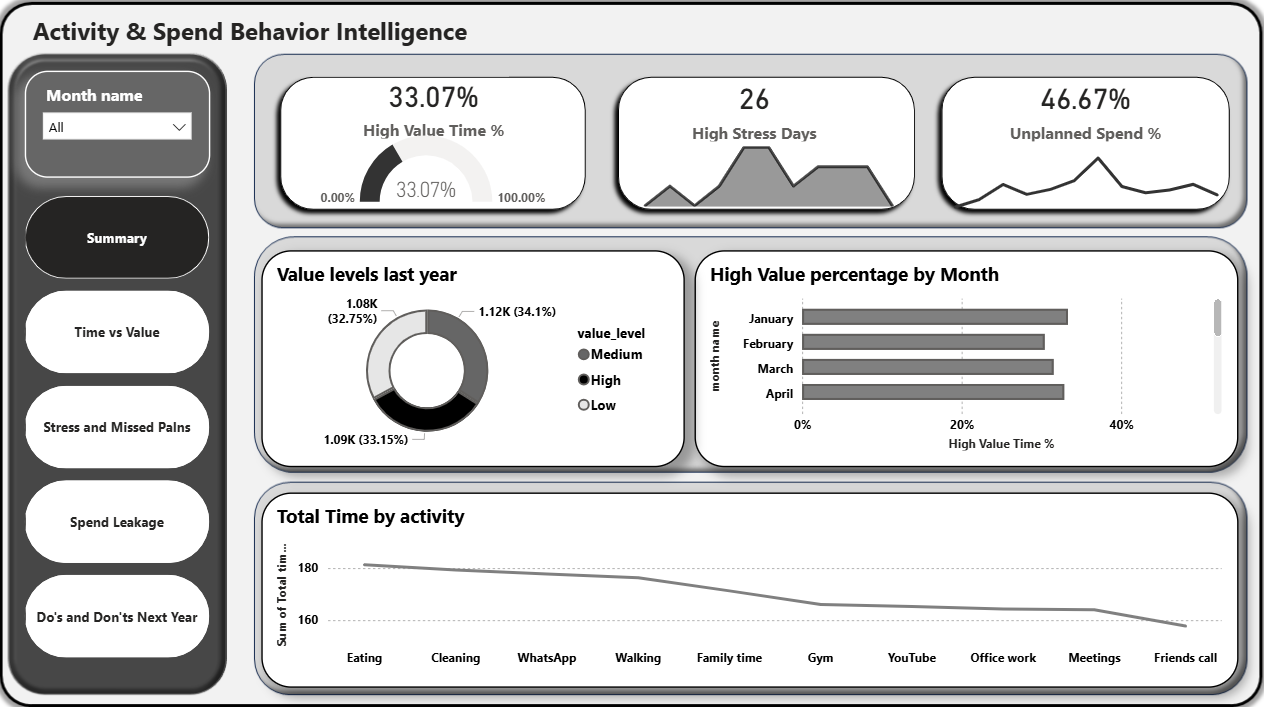

Layout of this report page (visuals, bound fields, positions):
{"tool":"powerbi","page":{"name":"Summary","canvas":[1280,720],"ordinal":0},"visuals":[{"type":"barChart","title":"High Value percentage by Month","fields":{"Y":["public activity.High Value Time %"],"Category":["public activity.month name"]},"box":[705,252.3,545.2,217.2],"z":0},{"type":"donutChart","title":"Value levels last year","fields":{"Category":["public activity.value_level"],"Y":["public activity.value_level"]},"box":[270.5,252.3,424.7,217.2],"z":1000},{"type":"lineChart","title":"Total Time by activity","fields":{"Category":["public activity.activity"],"Y":["public activity.hours"]},"box":[269.9,495.6,979.7,195.7],"z":2000},{"type":"shape","box":[942.6,70,307.1,151.4],"z":3000},{"type":"card","fields":{"Values":["public spending_logs.Unplanned Spend %"]},"box":[985.4,72.8,221.4,75.7],"z":4000},{"type":"lineChart","fields":{"Y":["public spending_logs.Unplanned Spend"],"Category":["public spending_logs.month"]},"box":[951.1,128.5,291.3,92.8],"z":5000},{"type":"shape","box":[618.4,70,315.6,151.4],"z":6000},{"type":"card","fields":{"Values":["public activity.True High Stress Days"]},"box":[649.8,72.8,228.5,75.7],"z":7000},{"type":"stackedAreaChart","fields":{"Y":["public activity.True High Stress Days"],"Category":["public activity.month name"]},"box":[640.5,136,277.5,78.5],"z":8000},{"type":"shape","box":[279.9,70,324.2,151.4],"z":9000},{"type":"card","fields":{"Values":["public activity.High Value Time %"]},"box":[354.2,70,177.1,75.7],"z":10000},{"type":"gauge","fields":{"Y":["public activity.High Value Time %"],"TargetValue":["public activity.High Value Time (Minutes)"]},"box":[291.3,132.8,301.3,81.4],"z":11000},{"type":"pageNavigator","box":[32.9,198.6,185.7,464.3],"z":12000},{"type":"textbox","box":[0,11.2,517.2,49.1],"z":13000},{"type":"slicer","fields":{"Values":["public activity.month name"]},"box":[32.9,72.9,185.7,107.1],"z":14000}]}

Visuals, with their boxes in screenshot pixels (x1, y1, x2, y2), scaled from the page's 1280x720 canvas onto the 1264x707 screenshot:
"High Value percentage by Month" barChart: <region>696, 248, 1235, 461</region>
"Value levels last year" donutChart: <region>267, 248, 687, 461</region>
"Total Time by activity" lineChart: <region>267, 487, 1234, 679</region>
shape: <region>931, 69, 1234, 217</region>
card - public spending_logs.Unplanned Spend %: <region>973, 71, 1192, 146</region>
lineChart - public spending_logs.Unplanned Spend x public spending_logs.month: <region>939, 126, 1227, 217</region>
shape: <region>611, 69, 922, 217</region>
card - public activity.True High Stress Days: <region>642, 71, 867, 146</region>
stackedAreaChart - public activity.True High Stress Days x public activity.month name: <region>632, 134, 907, 211</region>
shape: <region>276, 69, 597, 217</region>
card - public activity.High Value Time %: <region>350, 69, 525, 143</region>
gauge - public activity.High Value Time % x public activity.High Value Time (Minutes): <region>288, 130, 585, 210</region>
pageNavigator: <region>32, 195, 216, 651</region>
textbox: <region>0, 11, 511, 59</region>
slicer - public activity.month name: <region>32, 72, 216, 177</region>
